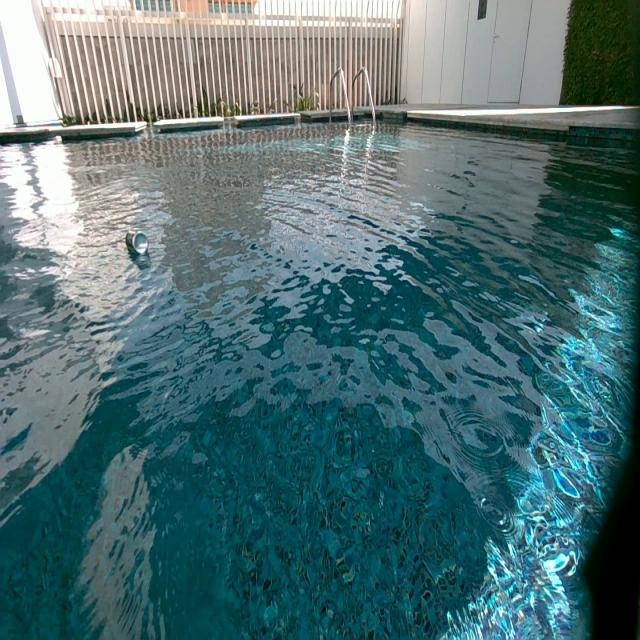Cans: (128, 232, 150, 256)
